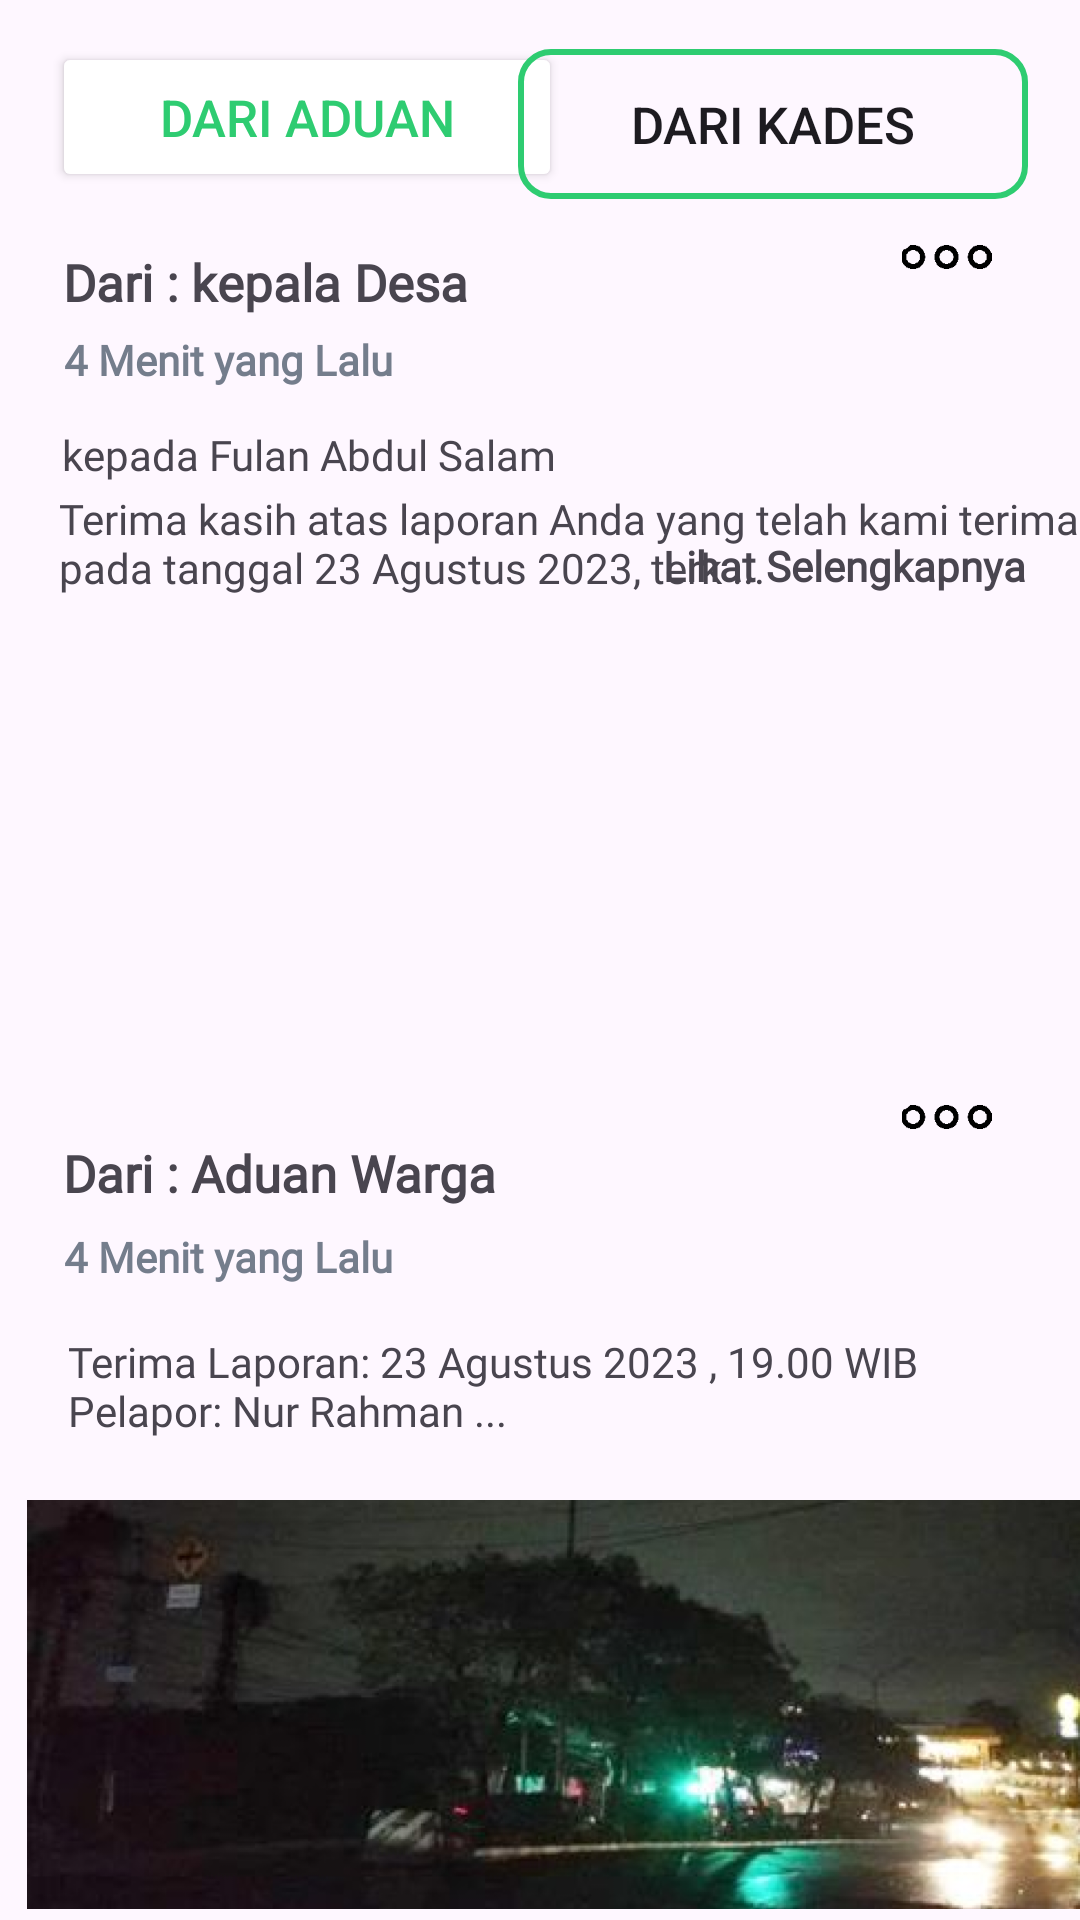

Icons on this 1080 × 1920 Android screen, each with its box as (x1, y1, x2, y2):
options: (902, 245, 992, 269), (902, 1105, 992, 1129)
